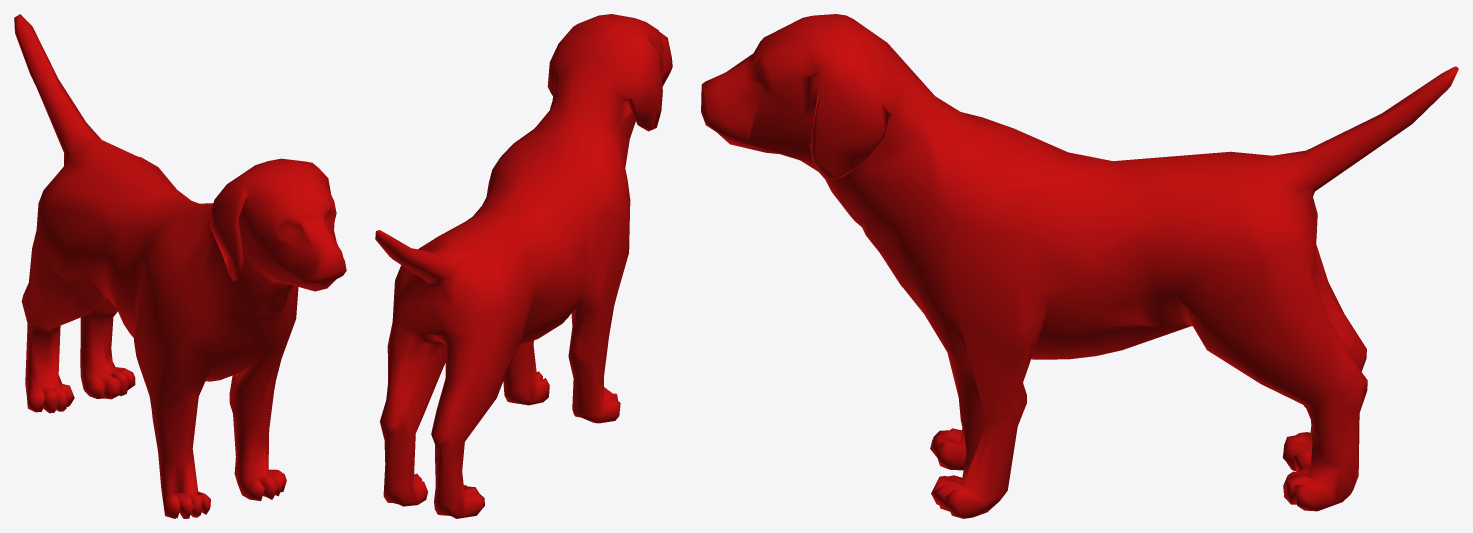
Rendered from Dog.FBX.
3 renders of one model, left to right at view 1: azimuth 30°, elevation 25°; view 2: azimuth 150°, elevation 25°; view 3: azimuth 270°, elevation 25°, orthographic. The views are drawn at different scales.
Visible parts, largest first — view 1: dog; view 2: dog; view 3: dog.
Part boxes in pixels (bbox=[...]): dog: bbox=[14, 14, 346, 518]; dog: bbox=[375, 14, 672, 518]; dog: bbox=[701, 14, 1458, 518].
Size of the model in its own units: 2.62 by 6.95 by 10.31.
